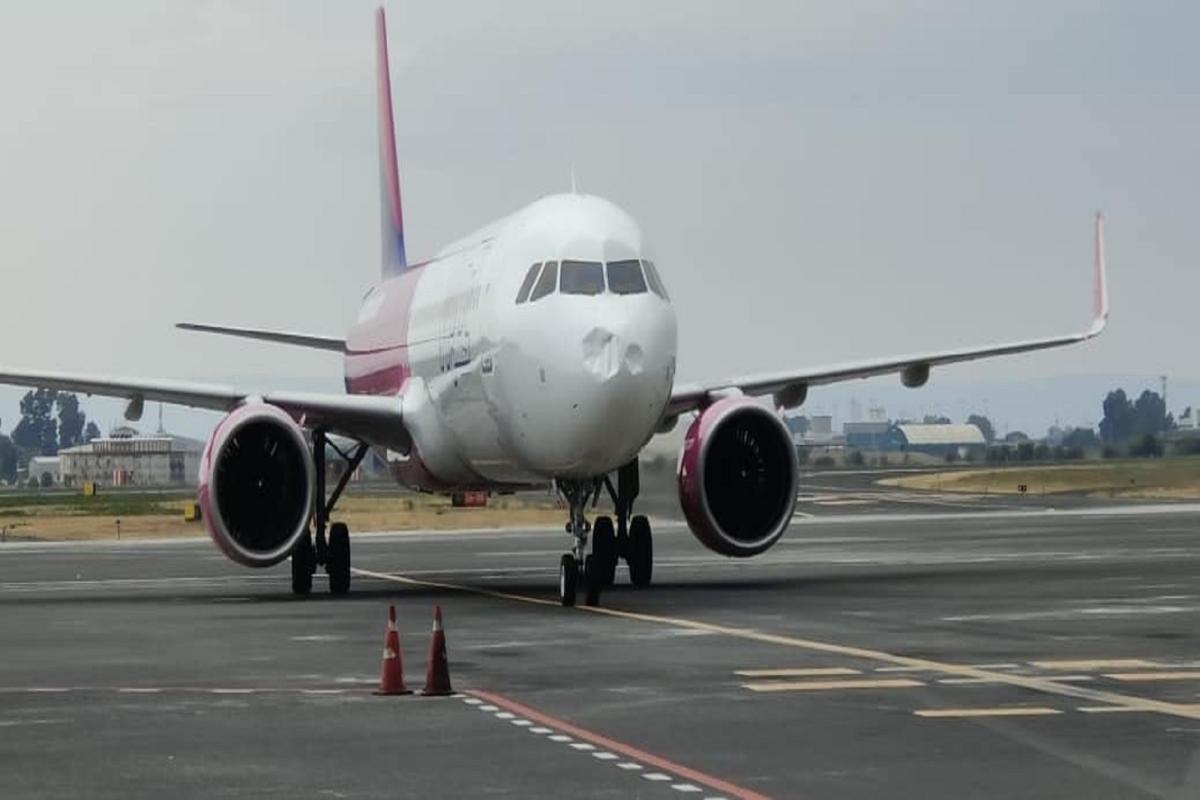Fuselage_damage: (579, 325, 646, 383), (582, 327, 620, 378), (624, 343, 645, 374)
